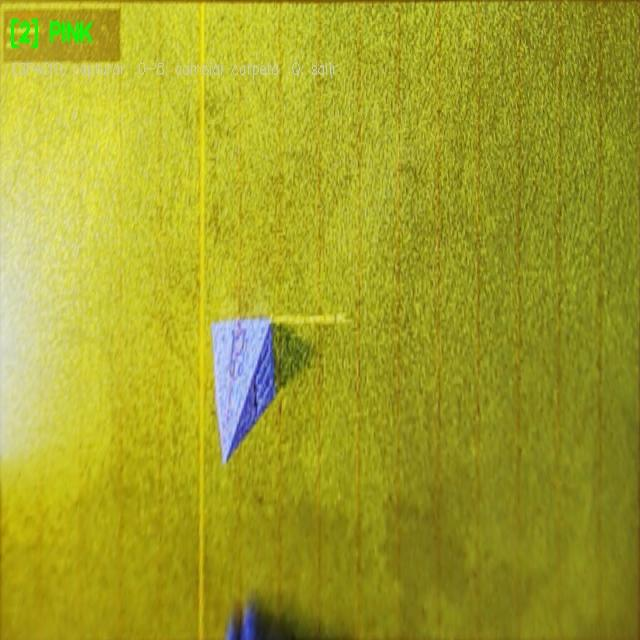pink: (214, 317, 275, 461)
